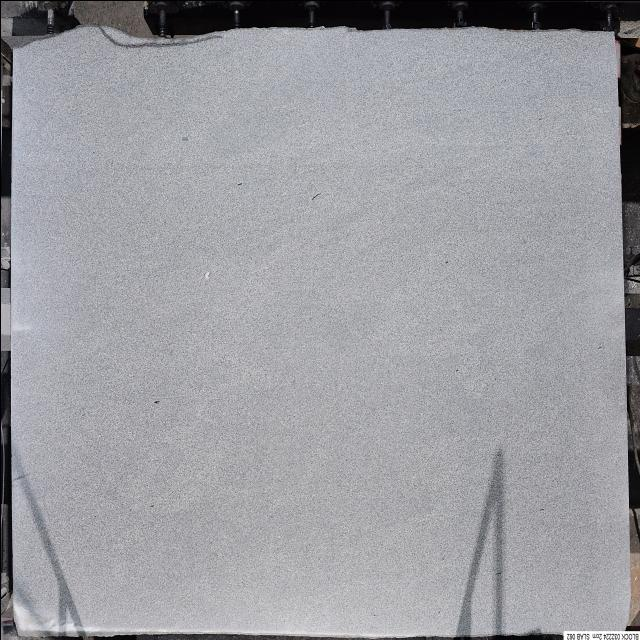chapa: (10, 27, 629, 634)
